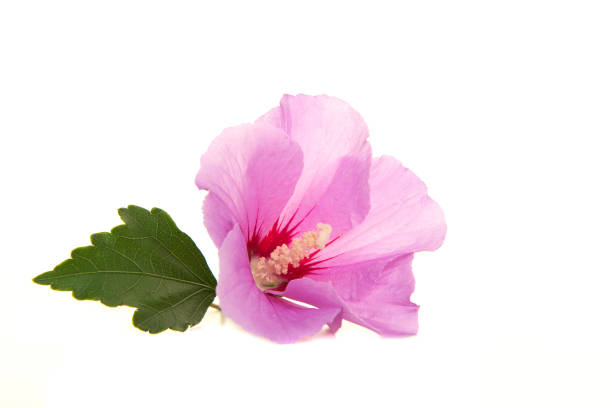Hibiscus: (179, 72, 469, 381)
